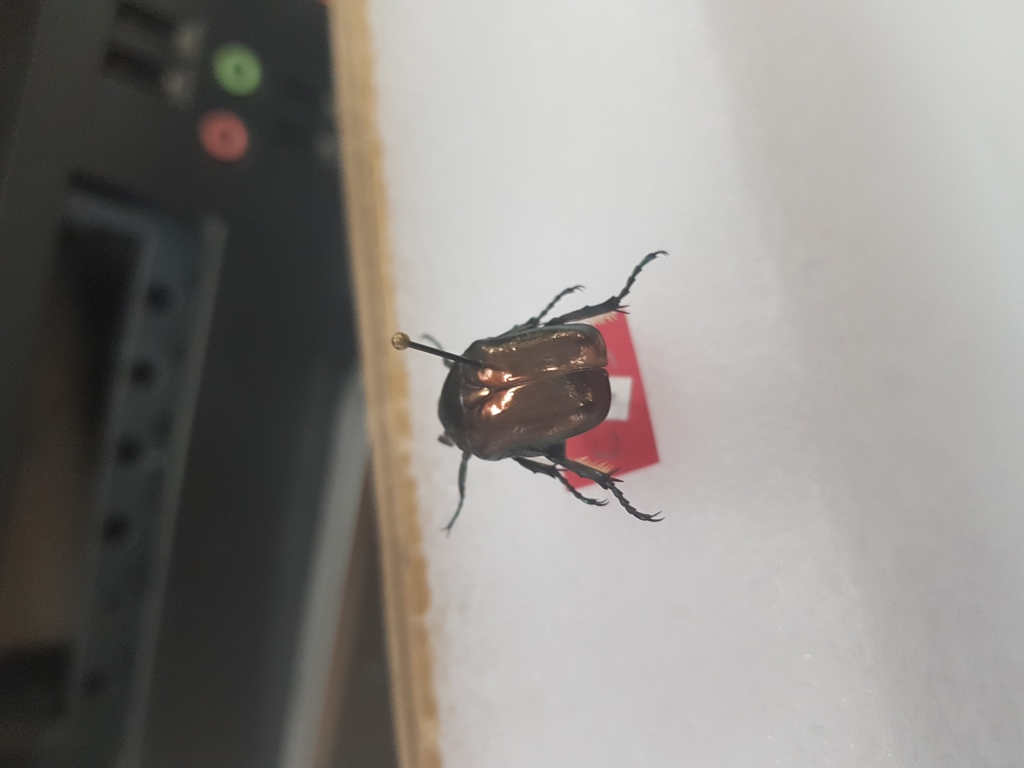Protaetia_besucheti: (427, 243, 673, 551)
